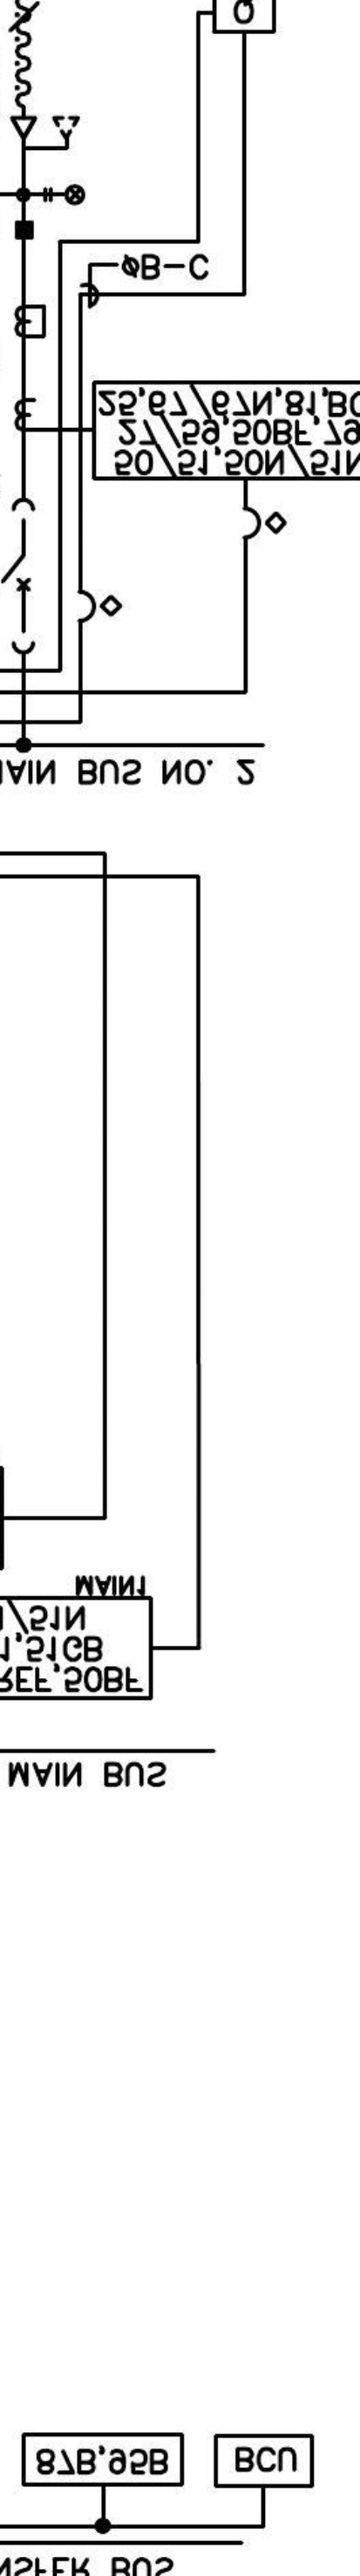22_breaker: (0, 498, 36, 656)
22_ll: (43, 184, 85, 205)
BCU: (212, 2433, 316, 2489)
terminator_w_future: (8, 115, 81, 151)
